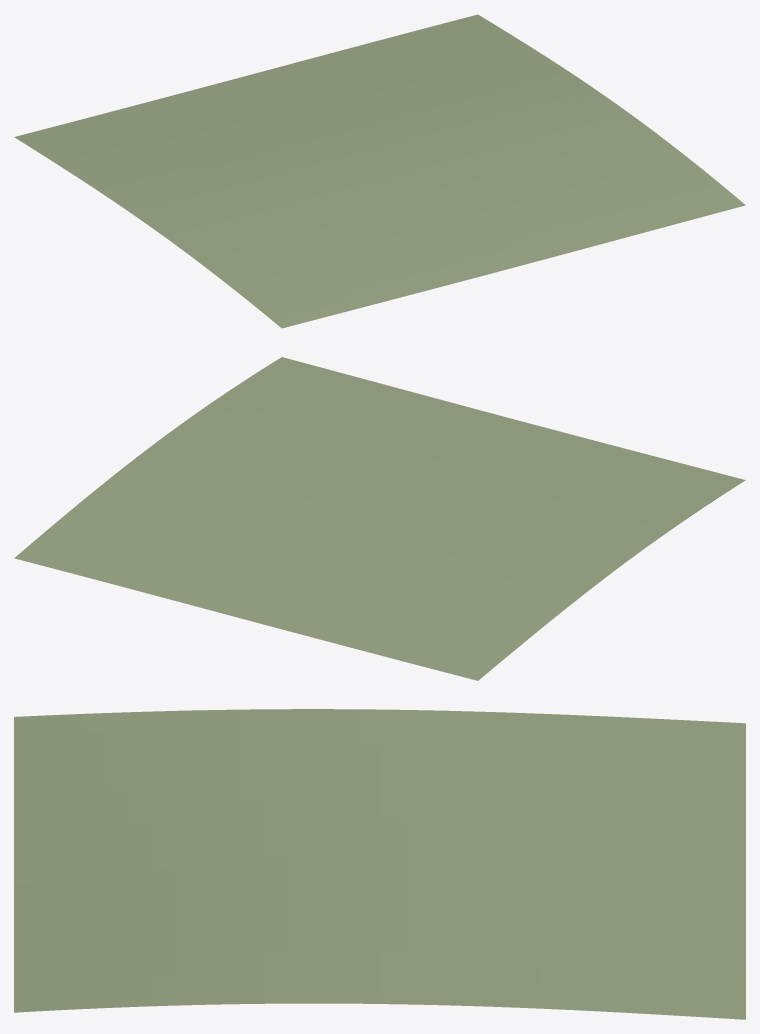
File: desert-21-22.glb
3 views of the same model, one above another, from view 1: azimuth 30°, elevation 25°; view 2: azimuth 150°, elevation 25°; view 3: azimuth 270°, elevation 25° (orthographic). The views are drawn at different scales.
Visible parts, largest first — view 1: desert-21-22; view 2: desert-21-22; view 3: desert-21-22.
Part boxes in pixels (x1=…): desert-21-22: x1=14, y1=14, x2=745, y2=328; desert-21-22: x1=14, y1=357, x2=745, y2=680; desert-21-22: x1=14, y1=709, x2=745, y2=1019.
Bounding box in the file's own units: 512 × 22.47 × 512.
